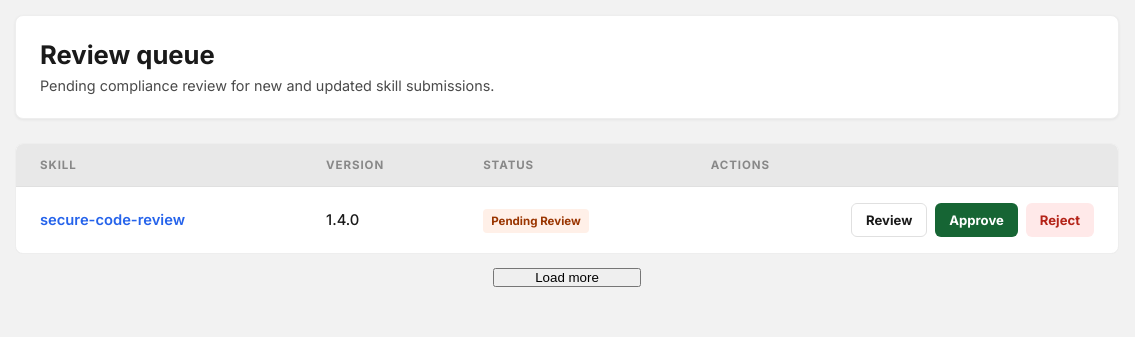
ReviewQueue › loads the next pending submissions page when one is available
Expected: the link "secure-code-review" is shown, x1=40 y1=211 x2=185 y2=229
Click the button "Load more" at (567, 277), box x1=493 y1=268 x2=641 y2=287
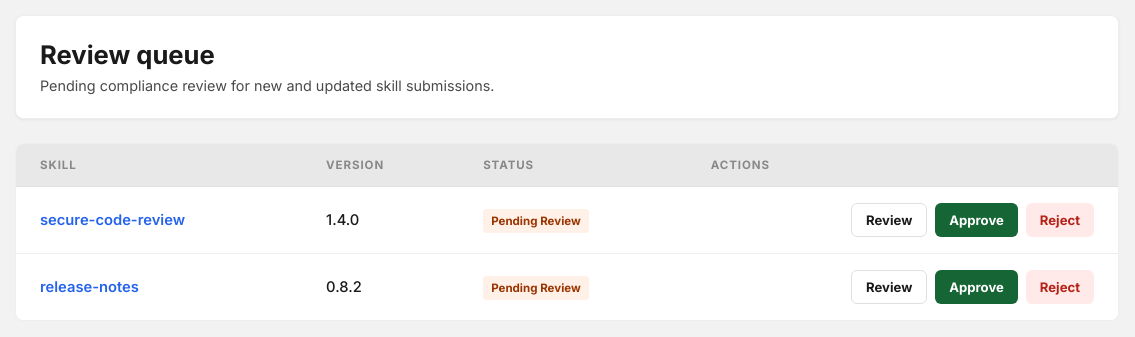
Expected: the link "release-notes" is shown, x1=40 y1=278 x2=139 y2=296
